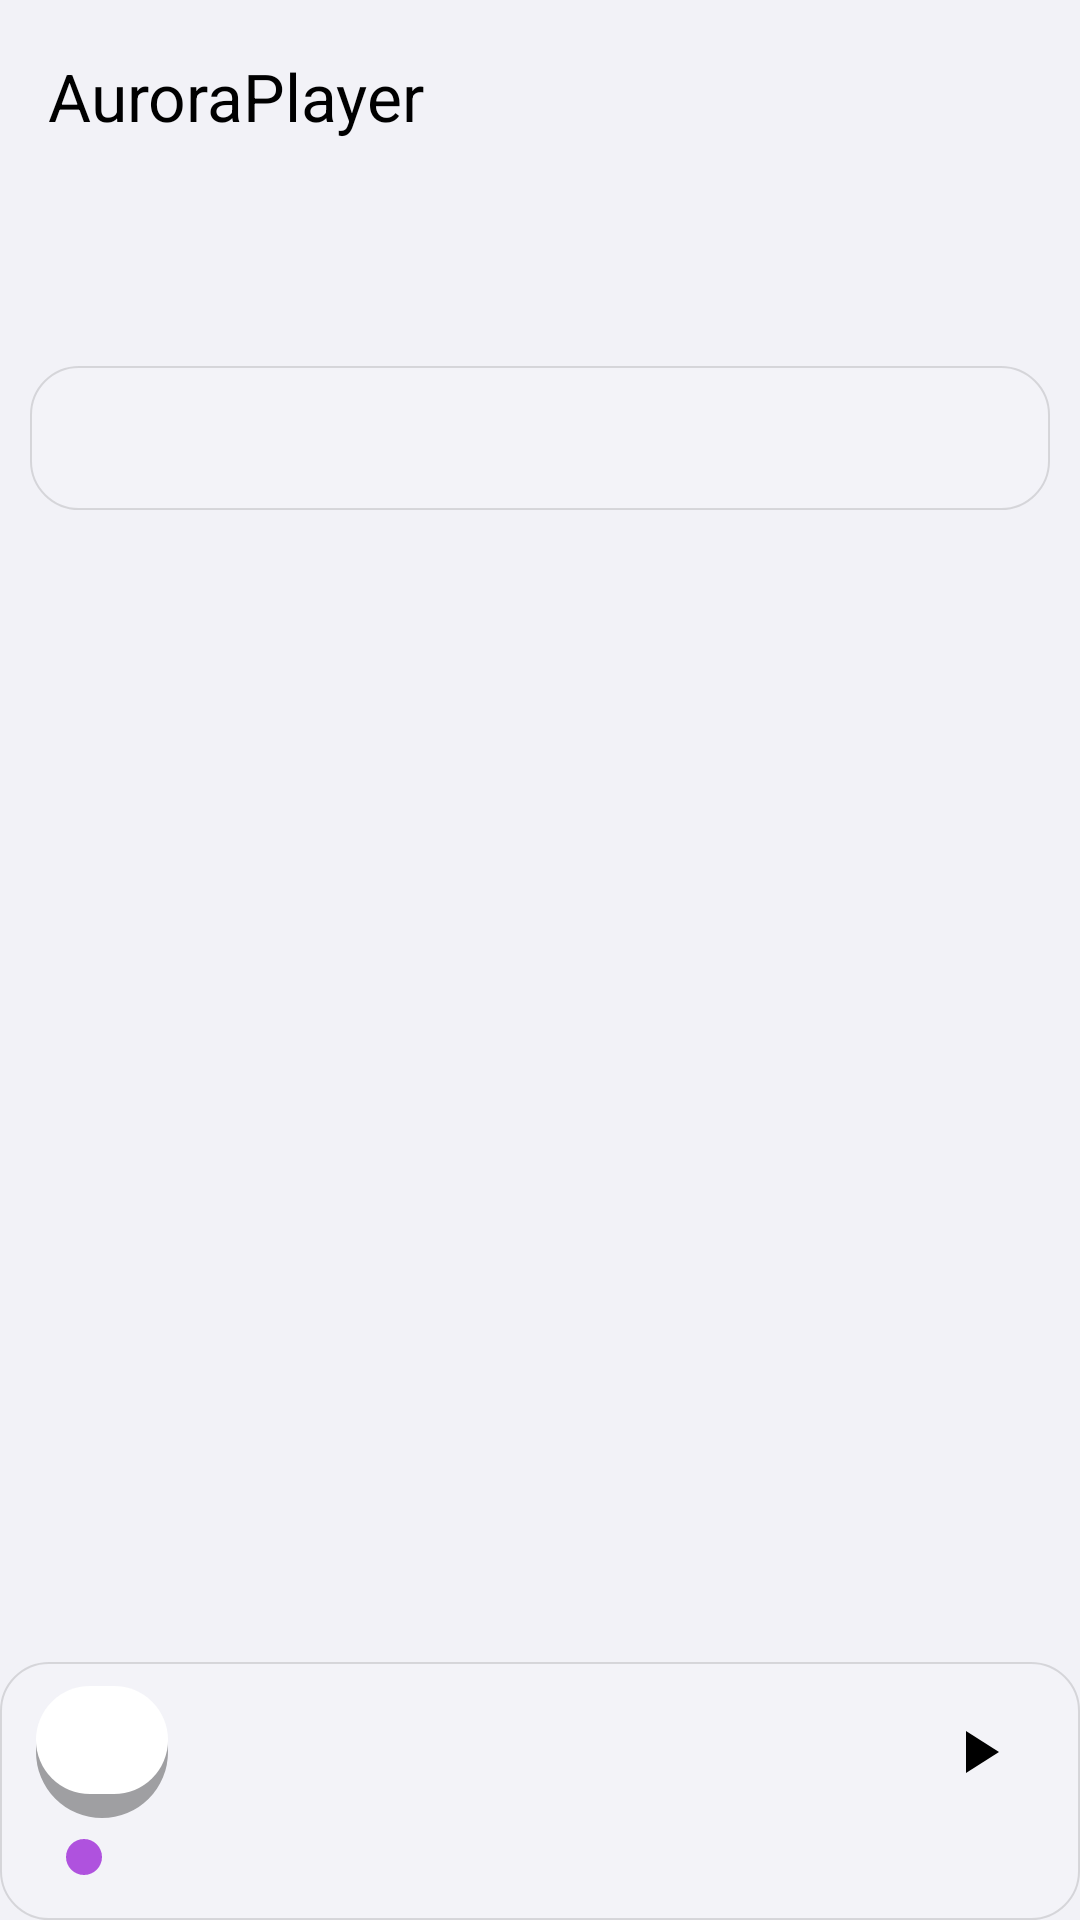

Screen size 1080 x 1920. Icon name, then its center in pixels as point (x, y):
Play or pause: point (982, 1752)
